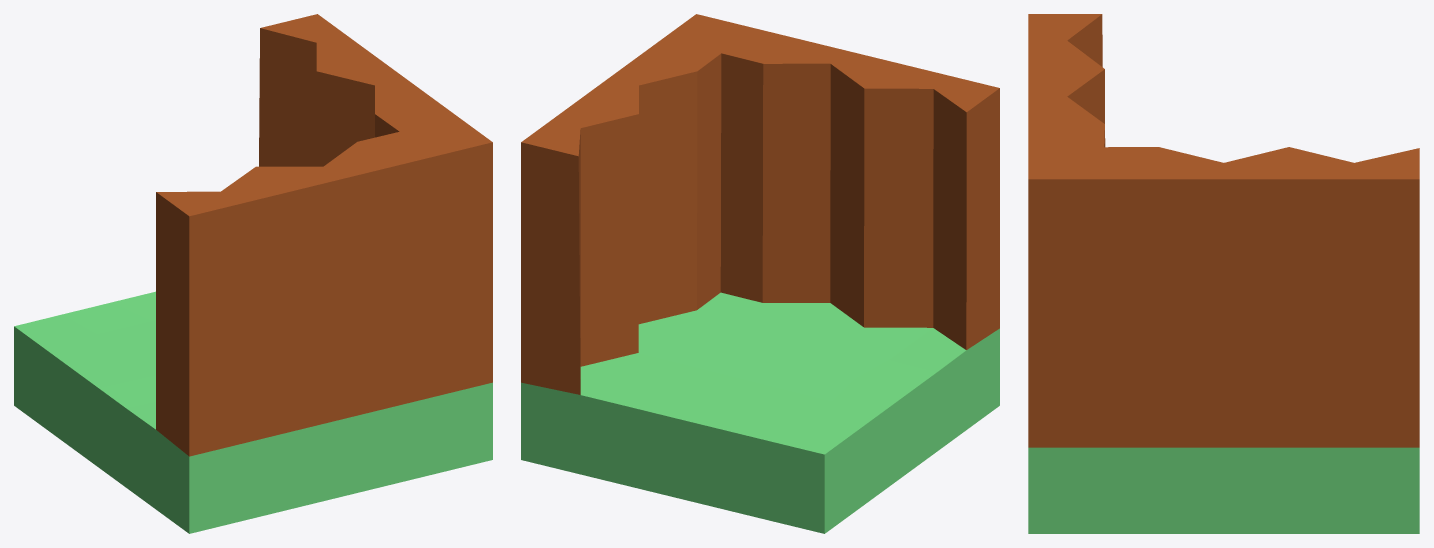
Rendered from cornerInterior.fbx.
3 views of the same model, side by side, from view 1: azimuth 30°, elevation 25°; view 2: azimuth 150°, elevation 25°; view 3: azimuth 270°, elevation 25° (orthographic). The views are drawn at different scales.
Visible parts, largest first — view 1: cornerInterior; view 2: cornerInterior; view 3: cornerInterior.
Boxes of the visible parts, x1,y1,x2,y2 form: cornerInterior: (14,14,492,533); cornerInterior: (521,14,999,533); cornerInterior: (1028,14,1419,533).
Bounding box in the file's own units: 200 × 200 × 200.
